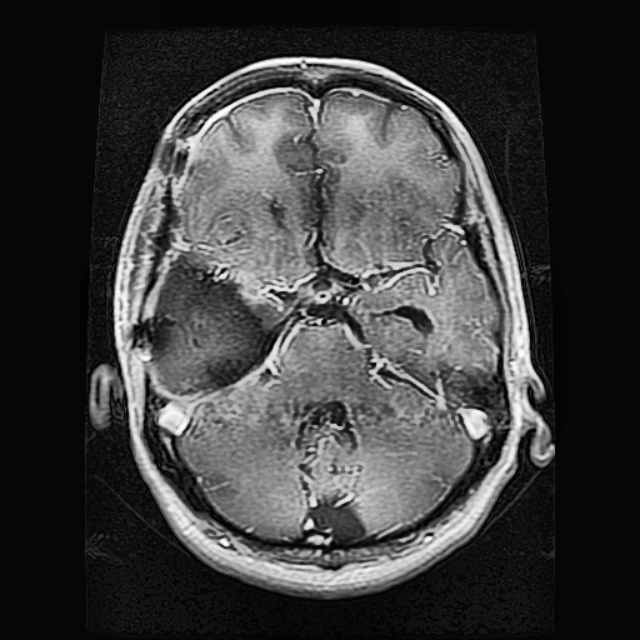Glioma: (152, 254, 278, 398)
